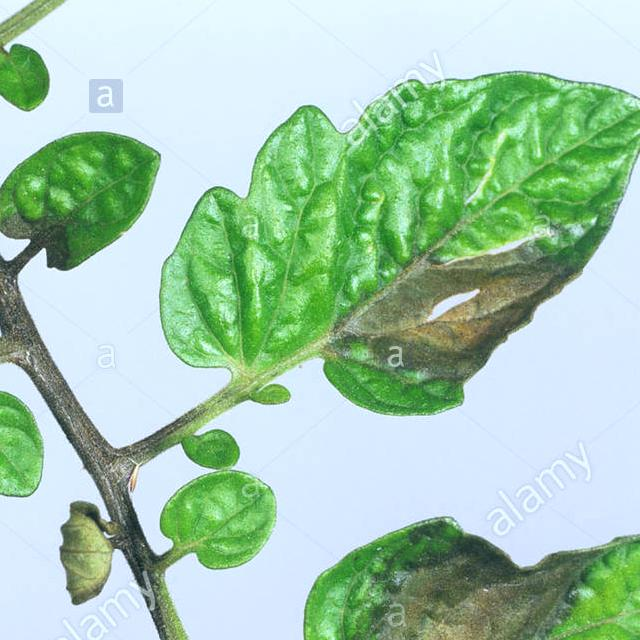Tomato leaf late blight: (152, 44, 640, 425), (290, 513, 640, 640)
